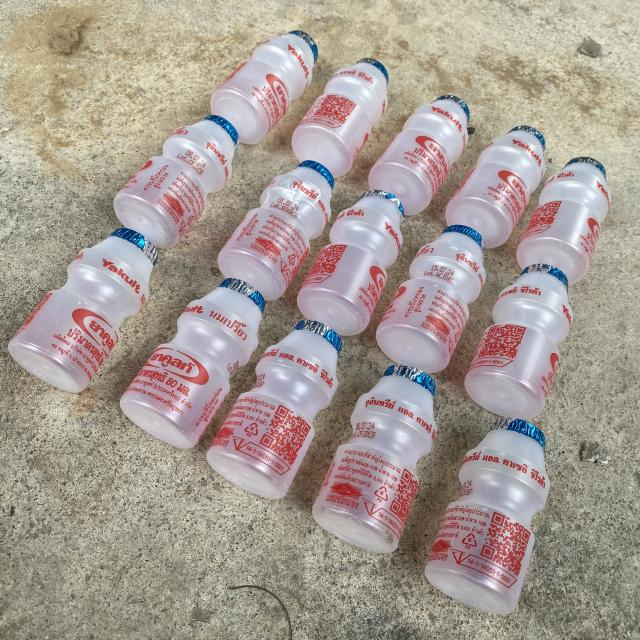Single-Use-Plastic: (120, 278, 265, 449), (425, 418, 550, 614), (9, 228, 158, 392), (208, 320, 341, 499), (312, 365, 436, 552), (465, 264, 572, 419), (114, 116, 236, 249), (376, 225, 486, 372), (218, 161, 334, 300), (298, 190, 404, 335), (211, 30, 318, 144), (446, 126, 545, 248), (369, 95, 469, 215), (516, 158, 611, 284), (292, 59, 388, 176)
